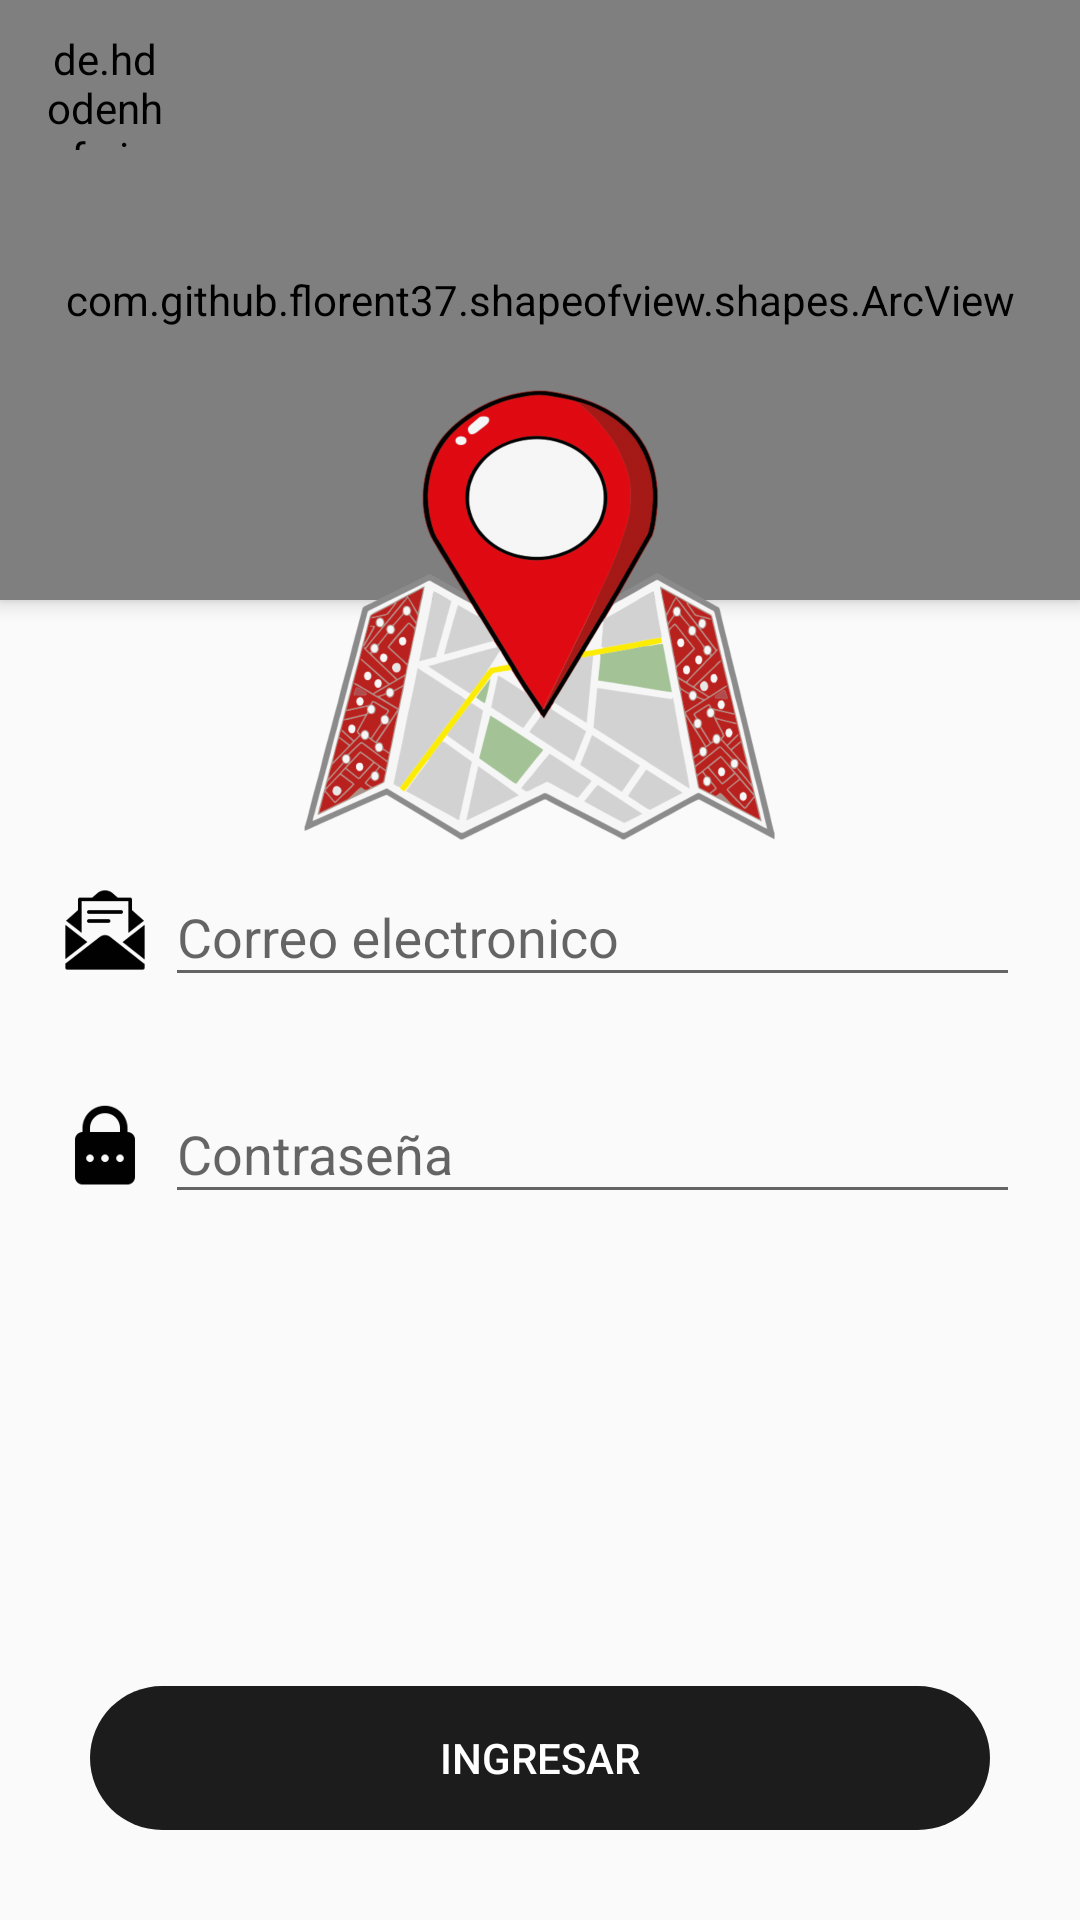

Icons on this 1080 × 1920 Android screen, each with the point to tap as (x=x, y=y):
email: (x=105, y=930)
pass: (x=105, y=1145)
